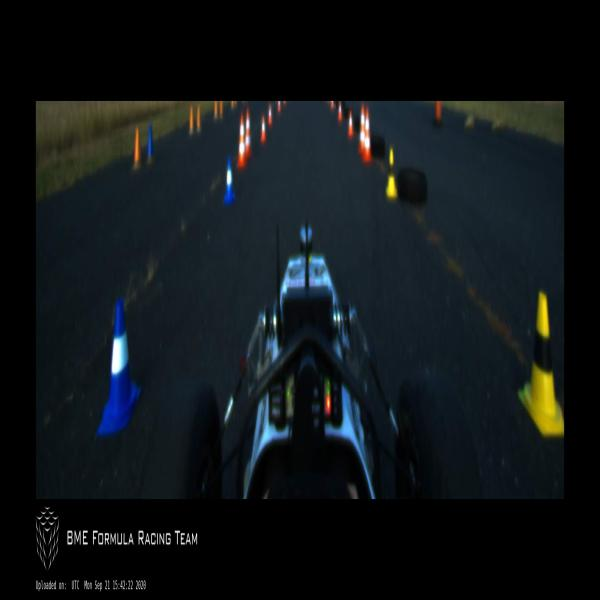blue_cone: (96, 299, 141, 433), (223, 155, 235, 203)
large_orange_cone: (236, 113, 247, 168), (363, 107, 371, 161), (245, 108, 252, 160), (358, 104, 365, 152)
orange_cone: (260, 116, 266, 144), (348, 111, 354, 136), (268, 104, 272, 126), (338, 102, 342, 120), (277, 101, 281, 112)
unknown_cone: (133, 127, 141, 169), (147, 124, 154, 162), (434, 101, 442, 127), (189, 106, 194, 136), (196, 105, 201, 132), (213, 101, 218, 119), (219, 101, 223, 119)
yellow_cone: (518, 293, 564, 435), (386, 149, 397, 198)
